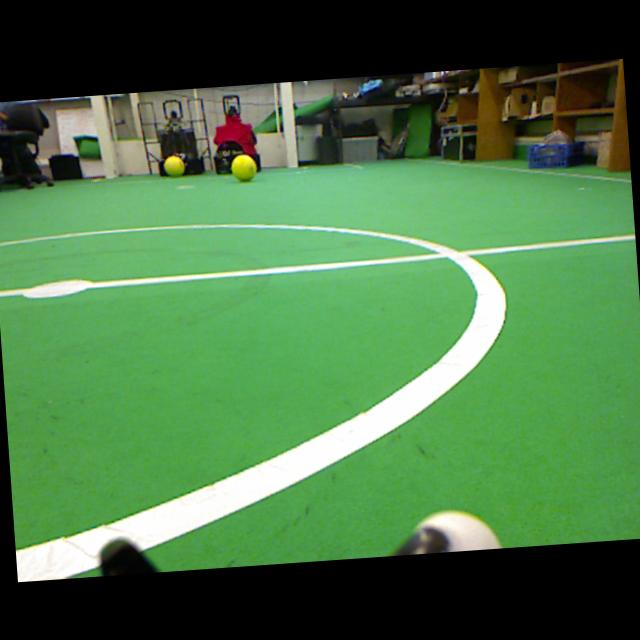ball: (231, 154, 256, 180), (164, 155, 184, 176)
goal: (89, 95, 115, 178), (279, 81, 297, 167)
robot: (158, 99, 204, 176)
